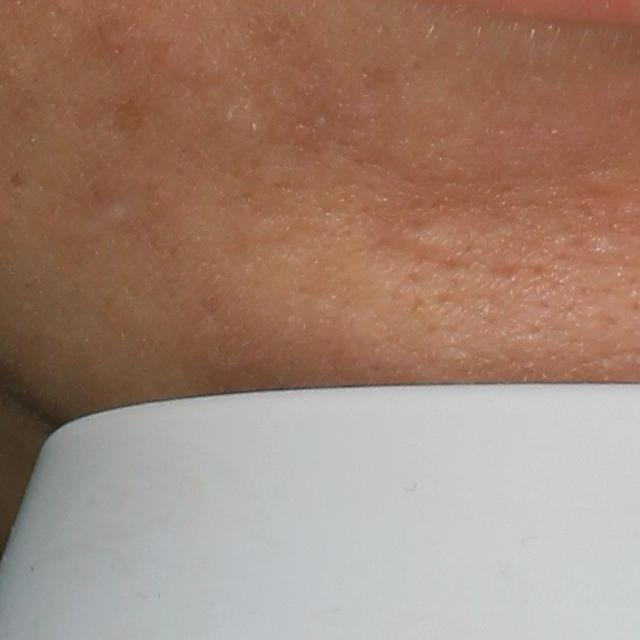hypertrophic_scar: (393, 224, 470, 266)
